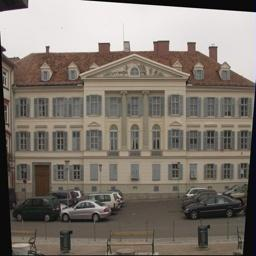building: (5, 32, 256, 206)
